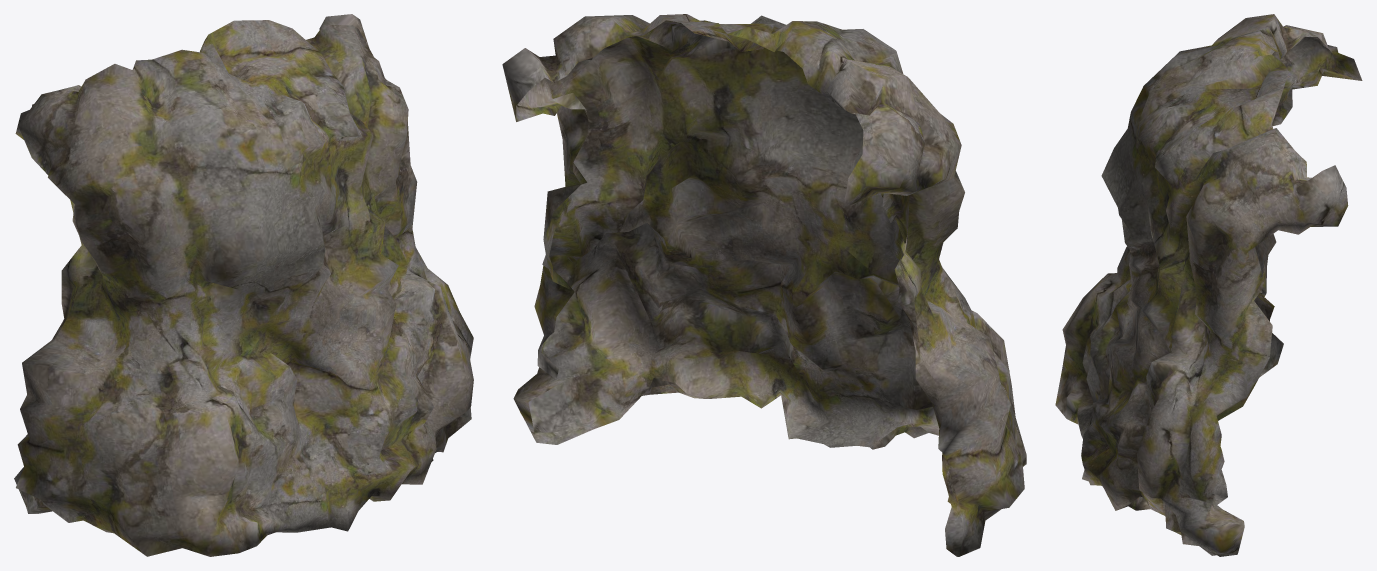
The picture shows the model from 3 angles, left to right: view 1: azimuth 30°, elevation 25°; view 2: azimuth 150°, elevation 25°; view 3: azimuth 270°, elevation 25°; orthographic projection. The views are drawn at different scales.
Parts seen in each view (by area): view 1: Cube.079; view 2: Cube.079; view 3: Cube.079.
Boxes of the visible parts, x1,y1,x2,y2 form: Cube.079: (14, 14, 473, 556); Cube.079: (502, 14, 1026, 556); Cube.079: (1055, 14, 1362, 556).
Size of the model in its own units: 15.6 by 14.81 by 9.99.
Materials: 1 (1 with a texture image).
